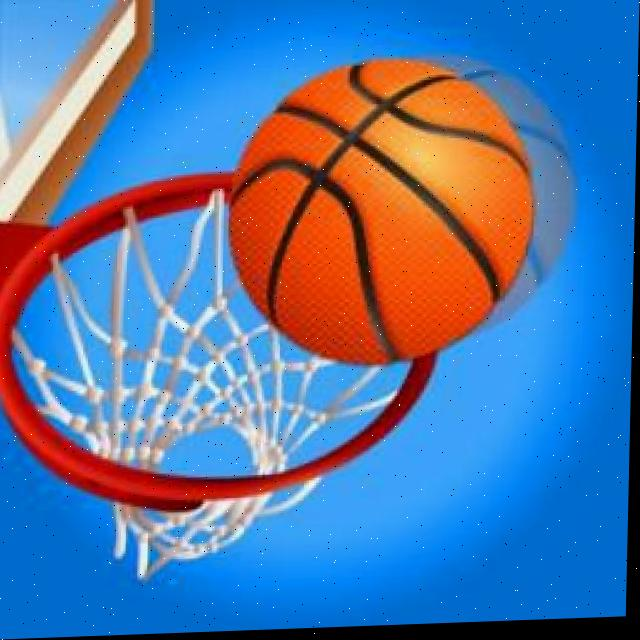Basketball: (228, 54, 538, 370)
hoop: (0, 163, 445, 585)
